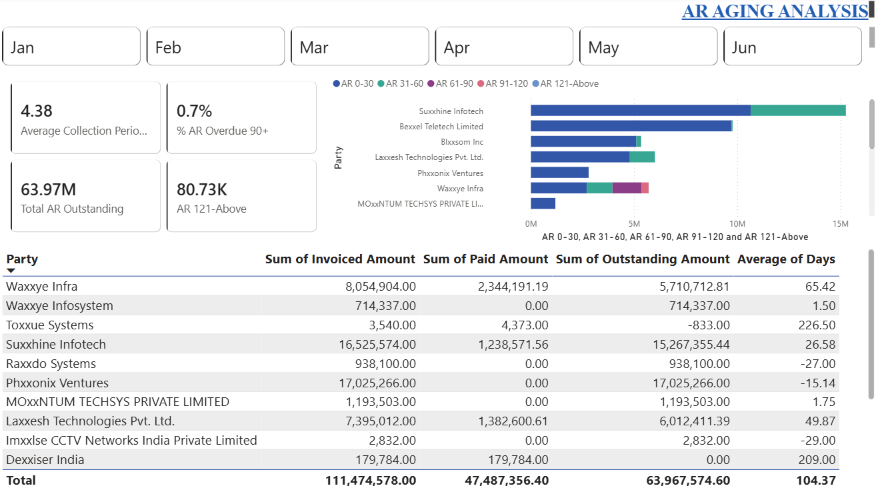

The dashboard page shown, as its layout file describes it:
{"tool":"powerbi","page":{"name":"AR Aging Analysis","canvas":[1280,720],"ordinal":1},"visuals":[{"type":"tableEx","fields":{"Values":["public fact_accounts_receivable.party","Sum(public fact_accounts_receivable.invoiced_amount)","Sum(public fact_accounts_receivable.paid_amount)","Sum(public fact_accounts_receivable.outstanding_amount)","Avg(public fact_accounts_receivable.days)"]},"box":[0,360.4,1279.5,358.9],"z":0},{"type":"barChart","fields":{"Category":["public fact_accounts_receivable.party"],"Y":["_Measures.AR 0-30","_Measures.AR 31-60","_Measures.AR 61-90","_Measures.AR 91-120","_Measures.AR 121-Above"]},"box":[480,104.5,799.5,255.9],"z":1000},{"type":"cardVisual","fields":{"Data":["_Measures.Average Collection Period (Days)","_Measures.% AR Overdue 90+","_Measures.Total AR Outstanding","_Measures.AR 121-Above"]},"box":[0,104.5,480,255.9],"z":2000},{"type":"textbox","box":[0,0,1279.5,37.3],"z":3000},{"type":"advancedSlicerVisual","fields":{"Values":["Date_Table.Month"]},"box":[0,38.1,1280,67],"z":4001}]}

Visuals, with their boxes in screenshot pixels (x1, y1, x2, y2), scaled from the page's 1280x720 canvas onto the 876x490 screenshot:
tableEx - public fact_accounts_receivable.party x Sum(public fact_accounts_receivable.invoiced_amount): box=[0, 245, 875, 489]
barChart - public fact_accounts_receivable.party x _Measures.AR 0-30: box=[328, 71, 875, 245]
cardVisual - _Measures.Average Collection Period (Days) x _Measures.% AR Overdue 90+: box=[0, 71, 328, 245]
textbox: box=[0, 0, 875, 25]
advancedSlicerVisual - Date_Table.Month: box=[0, 26, 875, 72]
